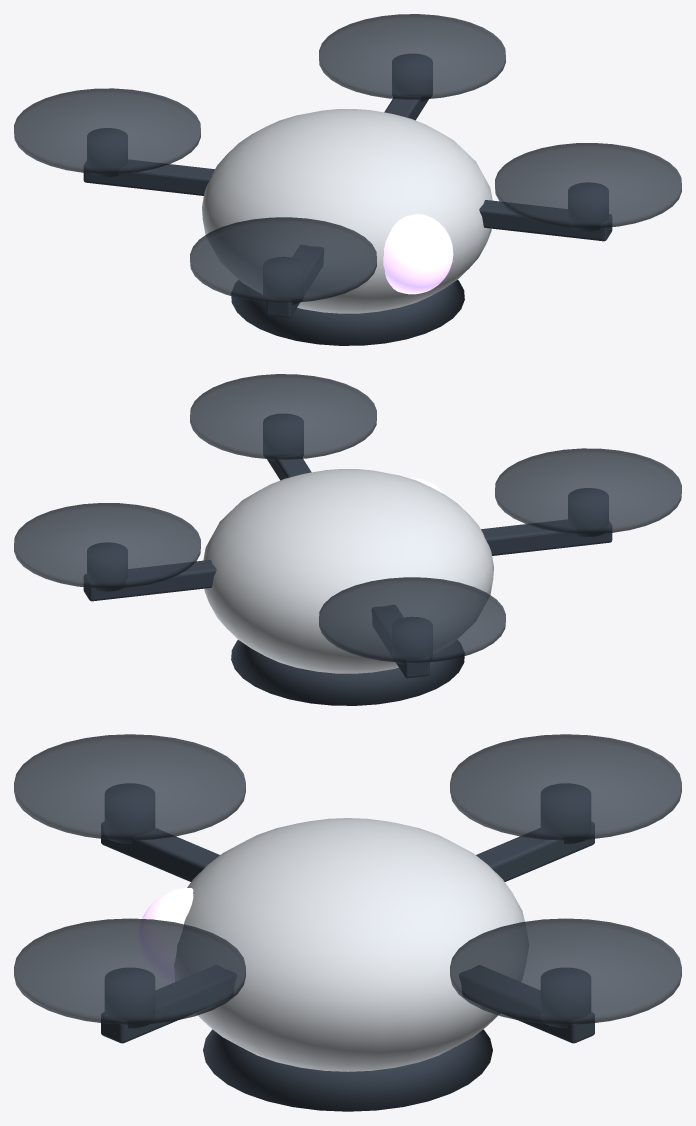
File: drone.glb
The picture shows the model from 3 angles, top to bottom: view 1: azimuth 30°, elevation 25°; view 2: azimuth 150°, elevation 25°; view 3: azimuth 270°, elevation 25°; orthographic projection. The views are drawn at different scales.
Parts seen in each view (by area): view 1: shell, rotor_3, rotor_0, rotor_1, rotor_2, belly, eye, Cube.003, Cube.001, Cylinder.003, Cylinder.001, Cylinder.002 (+3 smaller); view 2: shell, rotor_0, rotor_2, rotor_3, rotor_1, belly, Cube, Cube.002, Cylinder, Cylinder.002, Cylinder.001, Cylinder.003 (+2 smaller); view 3: shell, rotor_0, rotor_3, rotor_1, rotor_2, belly, Cube, Cube.003, eye, Cube.001, Cube.002, Cylinder (+3 smaller).
Part boxes in pixels (<box>): shell: <box>202,109,492,313</box>; rotor_3: <box>495,143,681,228</box>; rotor_0: <box>319,14,505,99</box>; rotor_1: <box>14,88,200,173</box>; rotor_2: <box>190,217,376,302</box>; belly: <box>231,279,464,345</box>; eye: <box>383,214,453,294</box>; Cube.003: <box>479,200,612,241</box>; Cube.001: <box>83,160,214,195</box>; Cylinder.003: <box>568,183,608,231</box>; Cylinder.001: <box>87,128,127,176</box>; Cylinder.002: <box>263,257,303,304</box>; shell: <box>203,469,493,673</box>; rotor_0: <box>14,503,200,588</box>; rotor_2: <box>495,448,681,533</box>; rotor_3: <box>190,374,376,459</box>; rotor_1: <box>319,577,505,662</box>; belly: <box>231,639,464,705</box>; Cube: <box>83,560,216,601</box>; Cube.002: <box>481,520,612,555</box>; Cylinder: <box>87,543,127,591</box>; Cylinder.002: <box>568,488,608,536</box>; Cylinder.001: <box>392,617,432,664</box>; Cylinder.003: <box>263,414,303,461</box>; shell: <box>174,818,528,1071</box>; rotor_0: <box>450,918,681,1024</box>; rotor_3: <box>14,918,245,1024</box>; rotor_1: <box>450,734,681,840</box>; rotor_2: <box>14,734,245,840</box>; belly: <box>203,1029,492,1111</box>; Cube: <box>459,965,594,1043</box>; Cube.003: <box>101,965,236,1043</box>; eye: <box>138,888,193,984</box>; Cube.001: <box>476,822,594,881</box>; Cube.002: <box>101,822,219,881</box>; Cylinder: <box>541,968,590,1028</box>.
Bounding box in the file's own units: 1.84 × 0.63 × 1.84.
